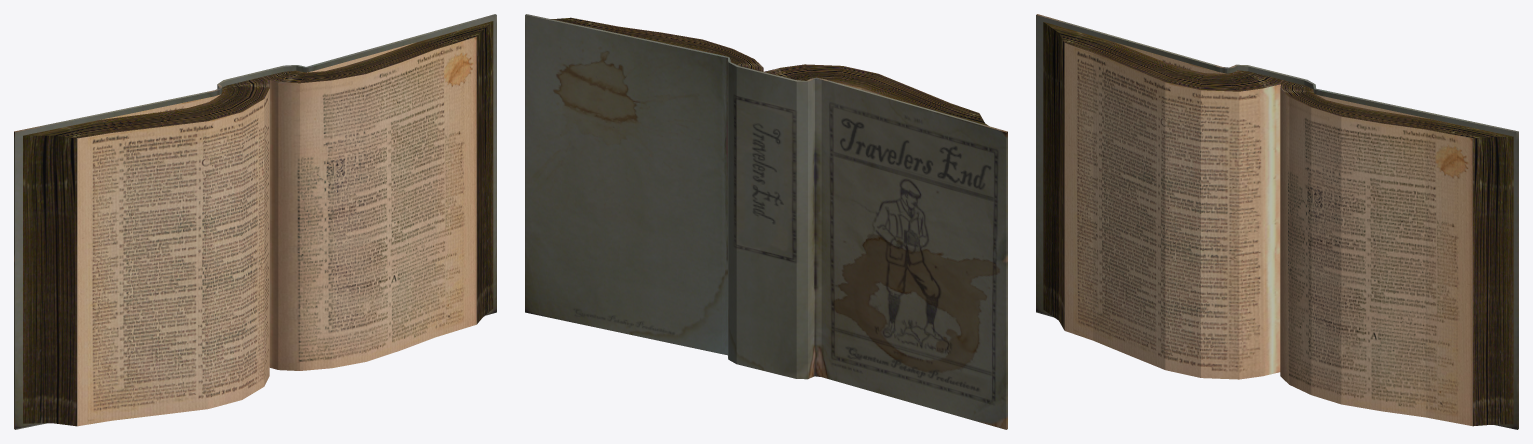
The model's file is OpenBook_wtf.obj.
3 renders of one model, left to right at view 1: azimuth 30°, elevation 25°; view 2: azimuth 150°, elevation 25°; view 3: azimuth 330°, elevation 25°, orthographic.
Parts seen in each view (by area): view 1: group5, group4; view 2: group4; view 3: group5, group4.
Part boxes in pixels (bbox=[...]): group5: bbox=[77, 37, 476, 426]; group4: bbox=[14, 14, 496, 429]; group4: bbox=[525, 14, 1007, 429]; group5: bbox=[1064, 42, 1472, 425]; group4: bbox=[1036, 14, 1518, 429].
Size of the model in its own units: 660 by 389 by 79.43.
